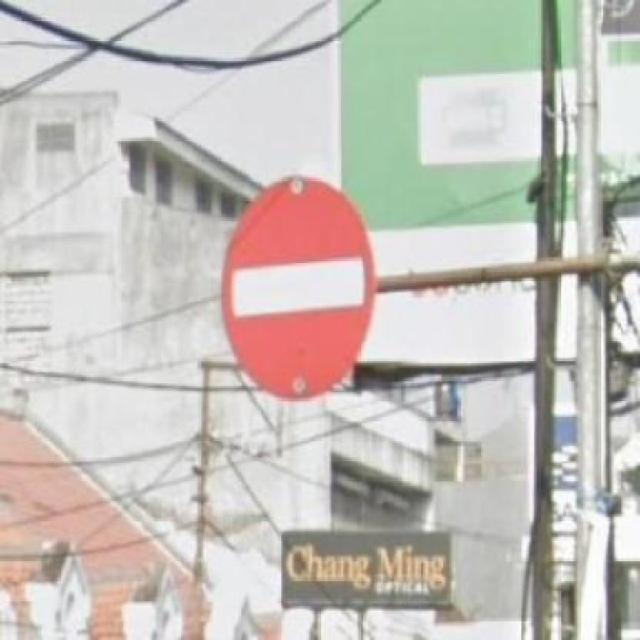no entry: (216, 171, 388, 411)
